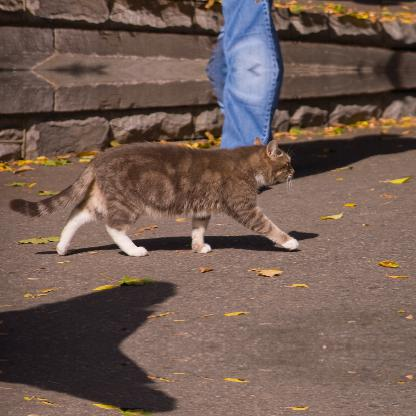Cat: (9, 136, 297, 254)
